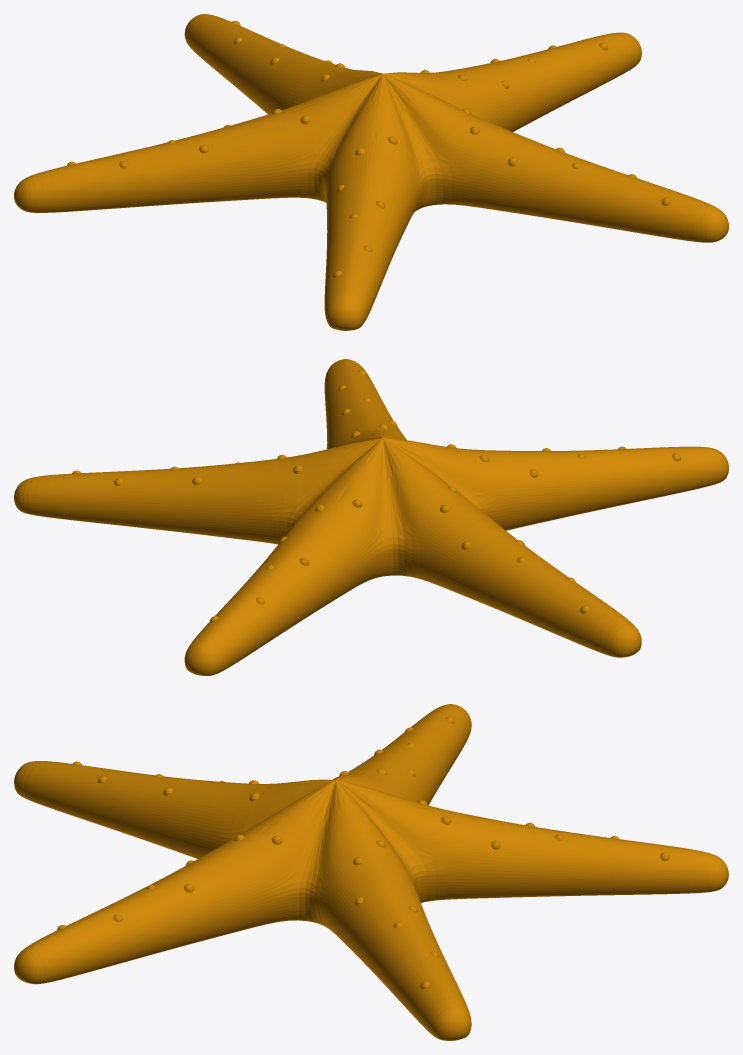
The model's file is starfish_orange.dae.
3 renders of one model, top to bottom at view 1: azimuth 30°, elevation 25°; view 2: azimuth 150°, elevation 25°; view 3: azimuth 270°, elevation 25°, orthographic. The views are drawn at different scales.
Parts seen in each view (by area): view 1: starfish; view 2: starfish; view 3: starfish.
Boxes of the visible parts, x1=… form: starfish: x1=14, y1=14, x2=728, y2=330; starfish: x1=14, y1=359, x2=728, y2=675; starfish: x1=14, y1=704, x2=728, y2=1040.
Bounding box in the file's own units: 14.37 × 13.71 × 2.28.
